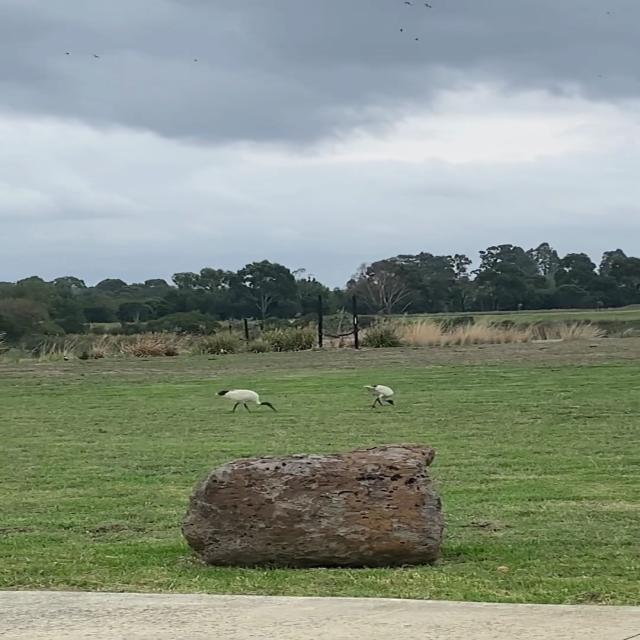Birds-Ibis: (212, 383, 282, 418), (359, 379, 402, 414)
